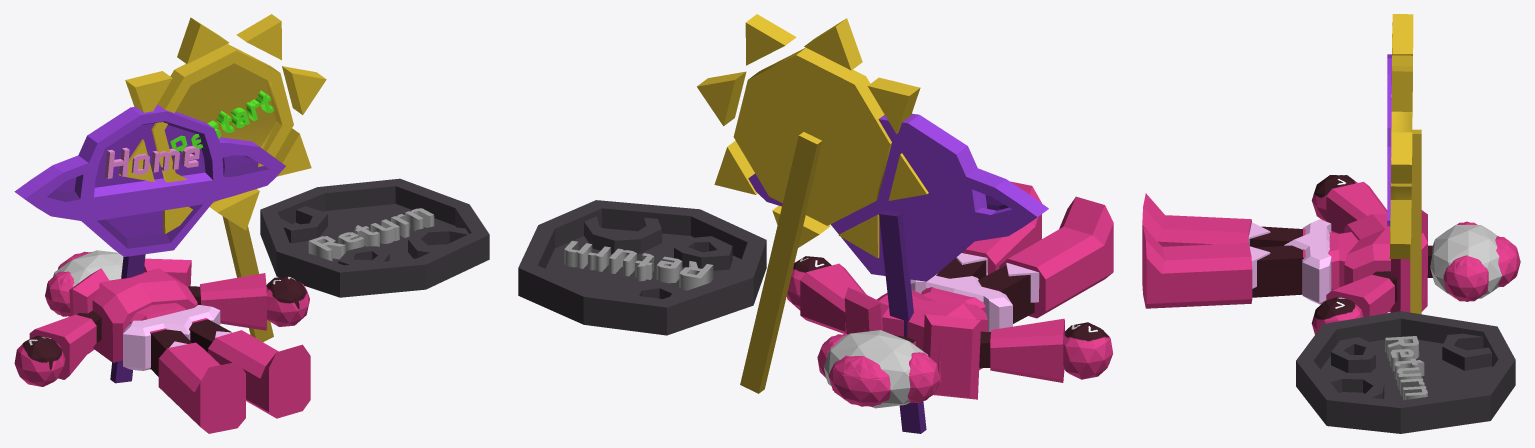
File: RDia.fbx
3 renders of one model, left to right at view 1: azimuth 30°, elevation 25°; view 2: azimuth 150°, elevation 25°; view 3: azimuth 270°, elevation 25°, orthographic. The views are drawn at different scales.
Parts seen in each view (by area): view 1: Cube.006, HomeStick, Return, Sun, Icosphere, Cube.008; view 2: Sun, Cube.006, Return, HomeStick, Icosphere, Cube.008; view 3: Return, Cube.006, Icosphere, Sun, Cube.008, HomeStick.
Boxes of the visible parts, x1,y1,x2,y2 form: Cube.006: [29, 251, 310, 433]; HomeStick: [14, 104, 285, 383]; Return: [260, 178, 489, 297]; Sun: [118, 14, 326, 341]; Icosphere: [14, 250, 309, 386]; Cube.008: [123, 305, 232, 370]; Sun: [697, 14, 928, 393]; Cube.006: [800, 181, 1113, 406]; Return: [518, 200, 766, 335]; HomeStick: [748, 113, 1048, 433]; Icosphere: [786, 256, 1113, 408]; Cube.008: [910, 253, 1039, 331]; Return: [1296, 311, 1515, 433]; Cube.006: [1142, 181, 1520, 316]; Icosphere: [1249, 175, 1502, 334]; Sun: [1389, 14, 1421, 314]; Cube.008: [1248, 219, 1331, 304]; HomeStick: [1387, 54, 1391, 226].
Bounding box in the file's own units: 1930 × 1329 × 1275.
